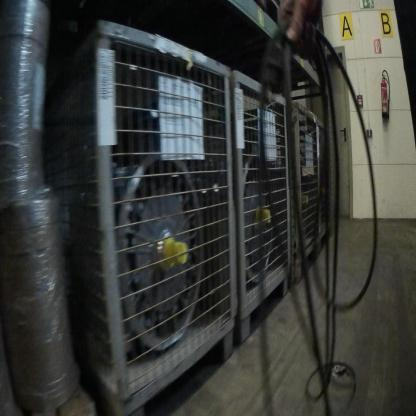pallet: (228, 35, 337, 100), (237, 1, 283, 32)
stillage: (40, 10, 235, 412), (139, 62, 291, 352), (221, 92, 317, 294), (317, 115, 335, 256)
